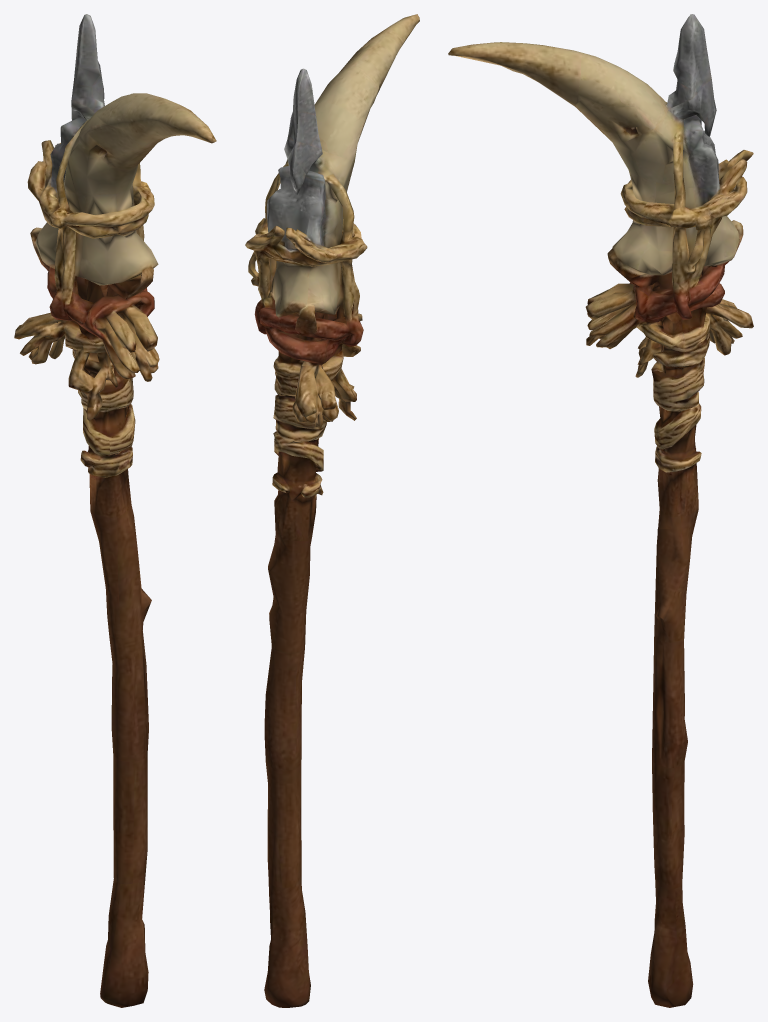
File: lanza_cuerno.glb
3 renders of one model, left to right at view 1: azimuth 30°, elevation 25°; view 2: azimuth 150°, elevation 25°; view 3: azimuth 270°, elevation 25°, orthographic. The views are drawn at different scales.
Parts seen in each view (by area): view 1: tripo_node_154c4971-d59f-4b9b-b71c-1954798c1338; view 2: tripo_node_154c4971-d59f-4b9b-b71c-1954798c1338; view 3: tripo_node_154c4971-d59f-4b9b-b71c-1954798c1338.
Boxes of the visible parts, left/top/right/bottom form: tripo_node_154c4971-d59f-4b9b-b71c-1954798c1338: left=14, top=14, right=216, bottom=1007; tripo_node_154c4971-d59f-4b9b-b71c-1954798c1338: left=245, top=14, right=419, bottom=1007; tripo_node_154c4971-d59f-4b9b-b71c-1954798c1338: left=448, top=14, right=753, bottom=1007.
Bounding box in the file's own units: 0.115 × 0.9999 × 0.2844.
Materials: 1 (1 with a texture image).
